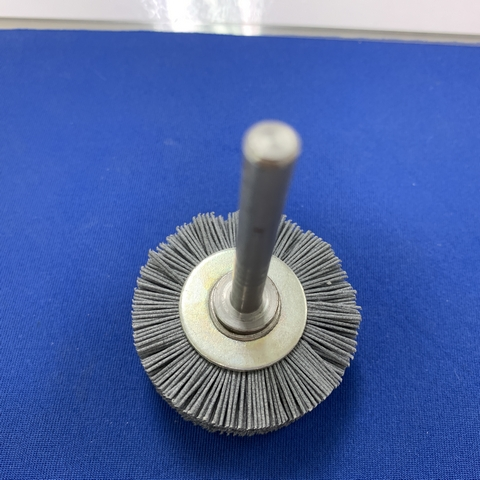Wheel Brush: (127, 120, 365, 446), (134, 108, 364, 441), (137, 187, 377, 419)
